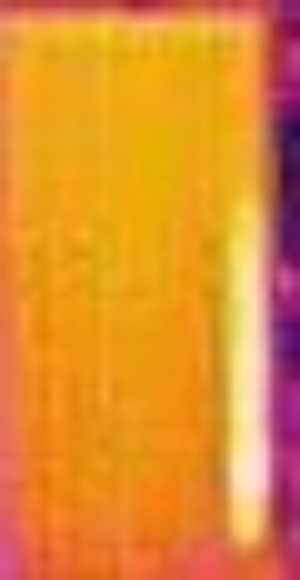Diode: (215, 191, 279, 547)
